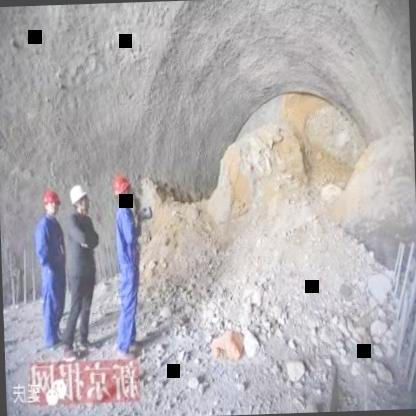helmet: (112, 167, 136, 207), (69, 180, 92, 214), (40, 188, 60, 216)
